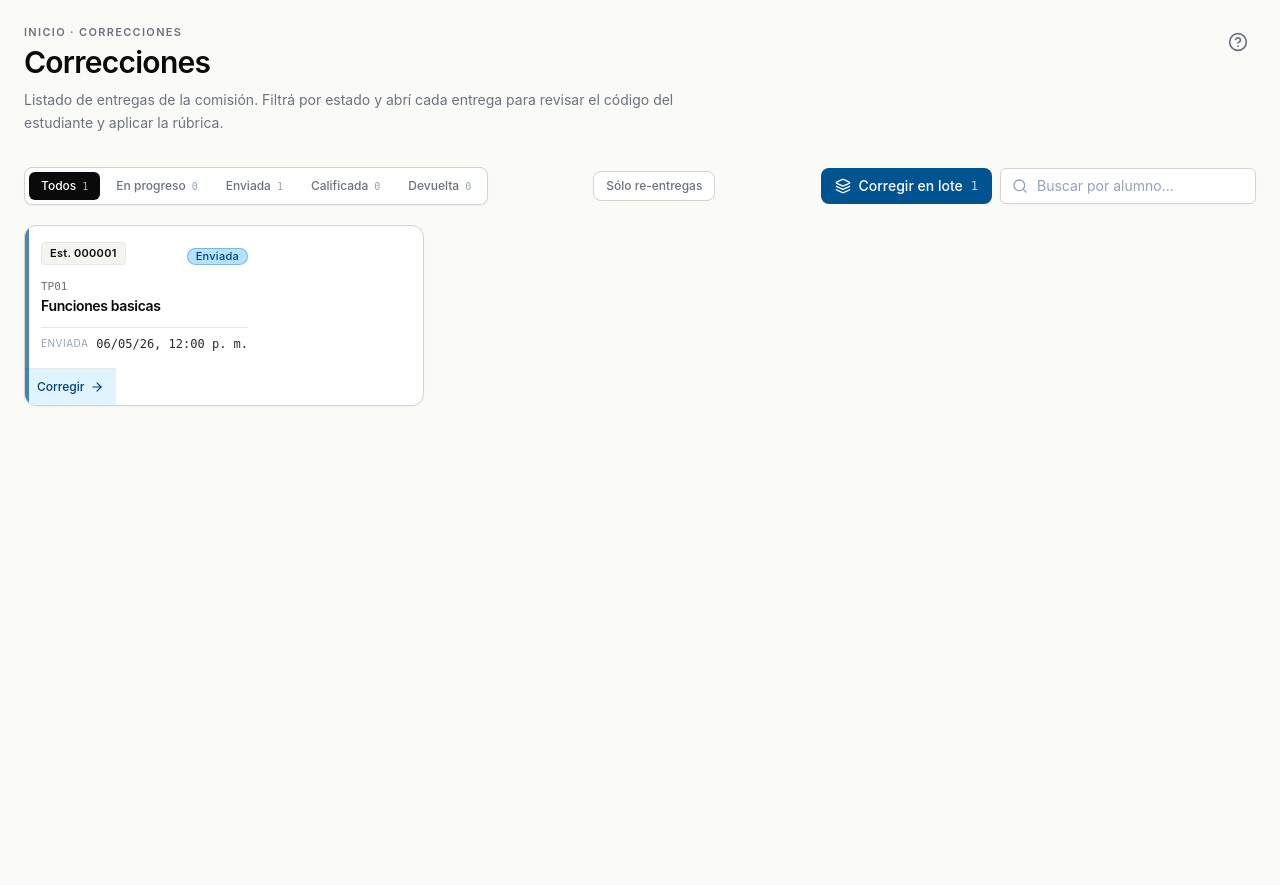
Test case: CorreccionesView — GradingFormView › boton Volver regresa a la lista
Click the button with test id "entrega-drill-btn".
click(83, 254)  # box [24,224,424,406]
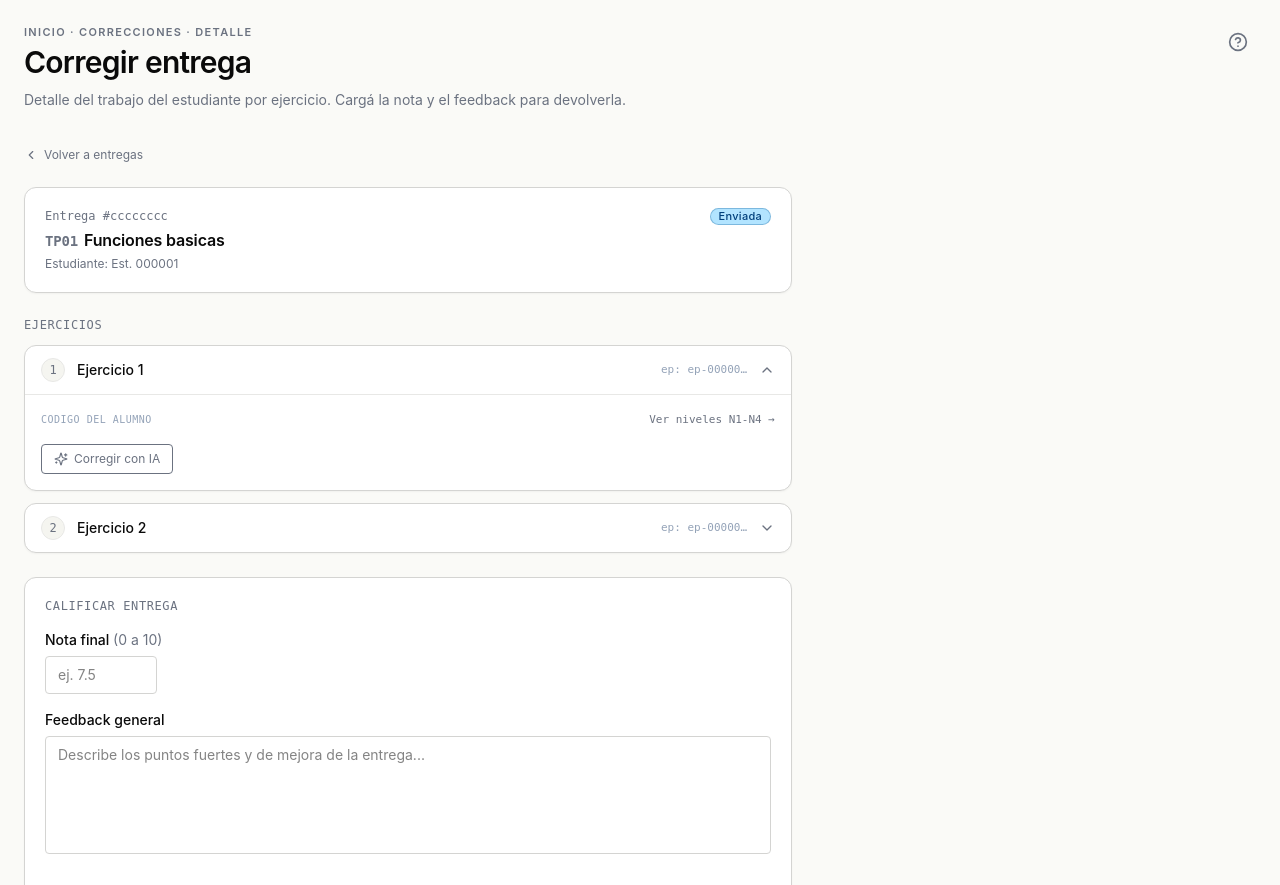
Note: Click en Volver
Click the button "Volver a entregas".
click(84, 155)  # box [24,147,143,163]
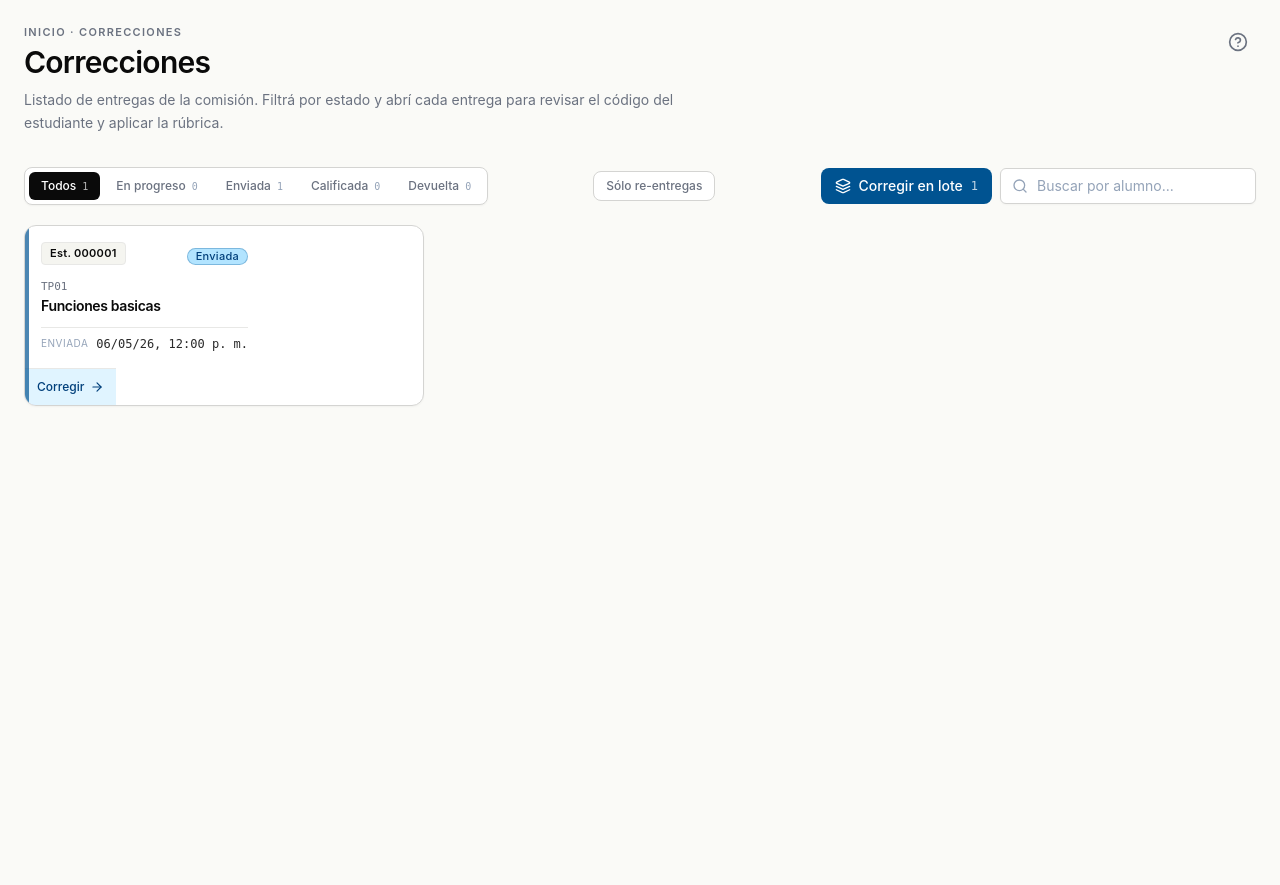
Check: the element with test id "entregas-list-view" is shown, box [24,166,1256,406]
